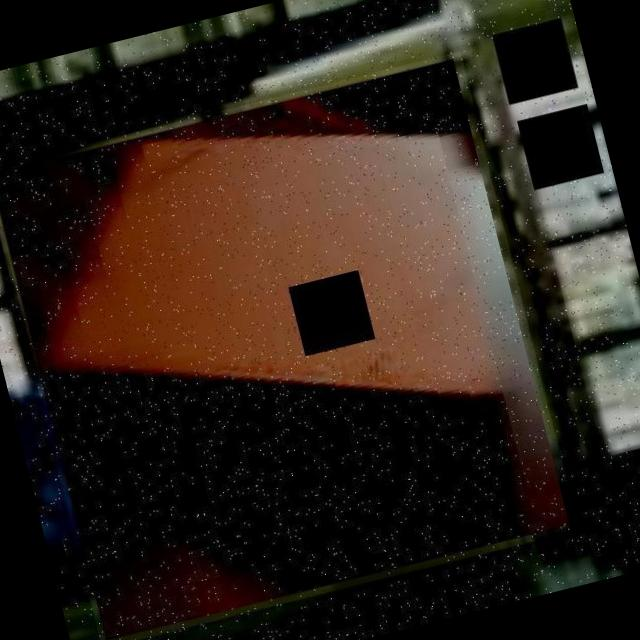box: (0, 49, 581, 640)
